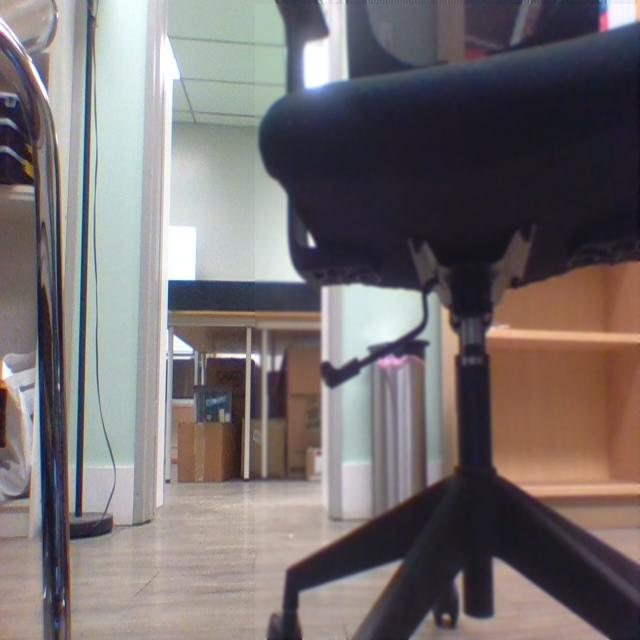black-chair: (255, 4, 639, 639)
